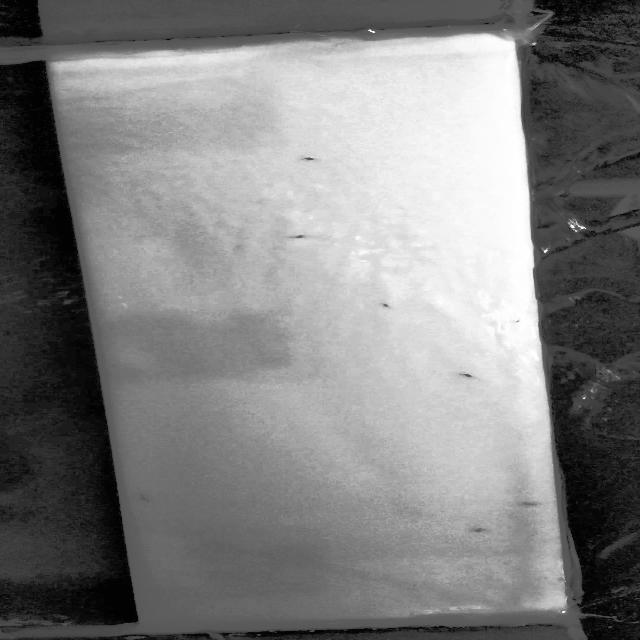shrimp: (447, 367, 480, 383), (132, 490, 159, 508), (291, 151, 322, 165), (283, 232, 317, 242), (467, 524, 494, 536), (378, 300, 396, 312)
